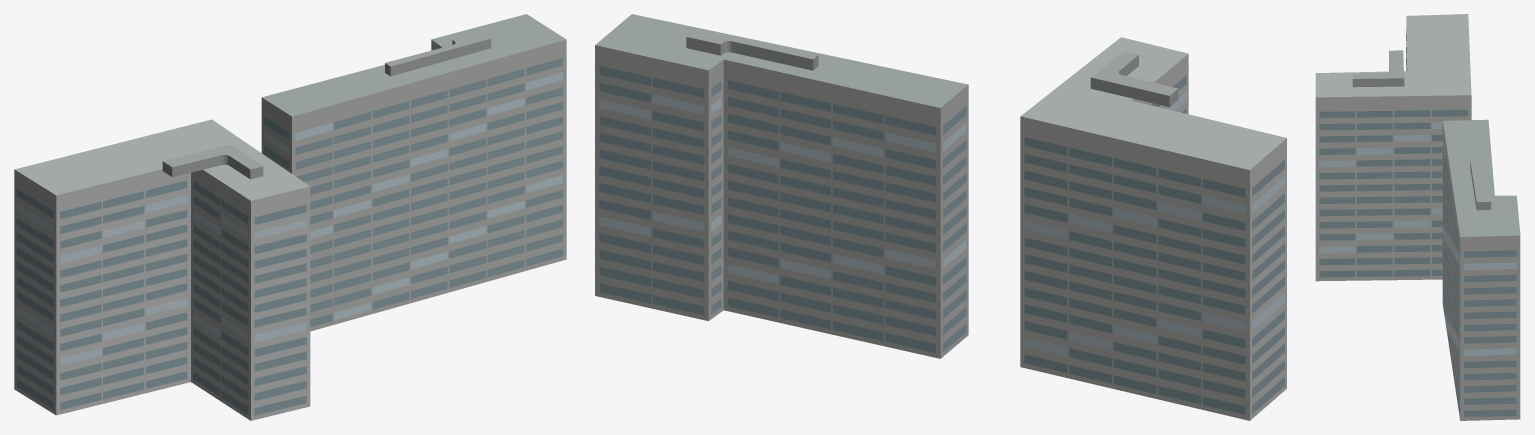
Rendered from apt-a12010103.glb.
3 renders of one model, left to right at view 1: azimuth 30°, elevation 25°; view 2: azimuth 150°, elevation 25°; view 3: azimuth 270°, elevation 25°, orthographic. The views are drawn at different scales.
Visible parts, largest first — view 1: apt-a12010103; view 2: apt-a12010103; view 3: apt-a12010103.
Part boxes in pixels (x1,y1,x2,y2): apt-a12010103: [14, 14, 566, 420]; apt-a12010103: [595, 14, 1286, 420]; apt-a12010103: [1315, 14, 1520, 420].
Size of the model in its own units: 119 by 47.81 by 46.24.
